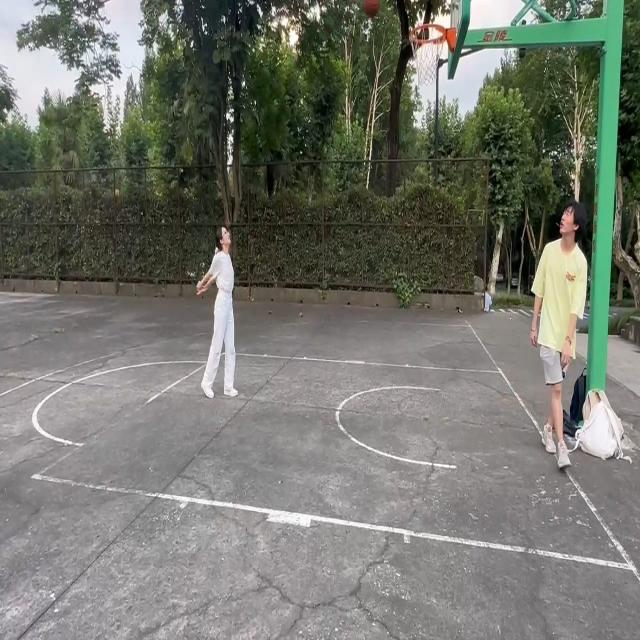basketball: (410, 23, 452, 90)
rim: (362, 0, 380, 17)
